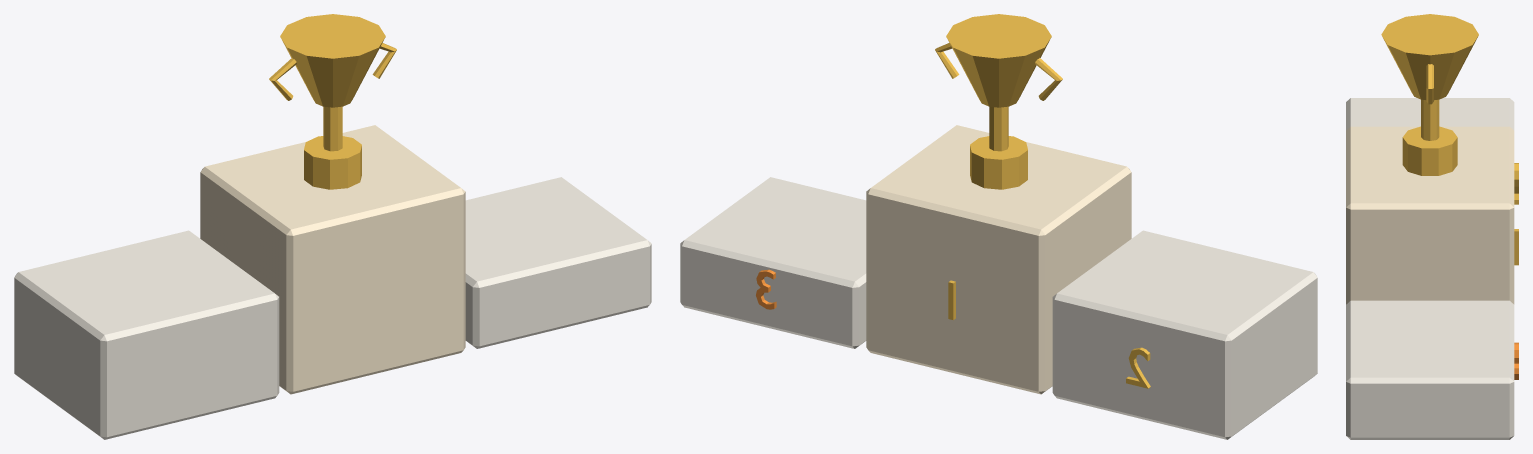
Rendered from podio.glb.
3 views of the same model, side by side, from view 1: azimuth 30°, elevation 25°; view 2: azimuth 150°, elevation 25°; view 3: azimuth 270°, elevation 25° (orthographic). The views are drawn at different scales.
Visible parts, largest first — view 1: podio; view 2: podio; view 3: podio.
Boxes of the visible parts, box(x1,y1,x2,y2) form: podio: box(14, 14, 651, 439); podio: box(680, 14, 1317, 439); podio: box(1346, 14, 1518, 439).
Size of the model in its own units: 3.85 by 2.04 by 1.13.
